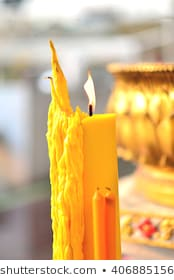Fire: (81, 70, 98, 111)
